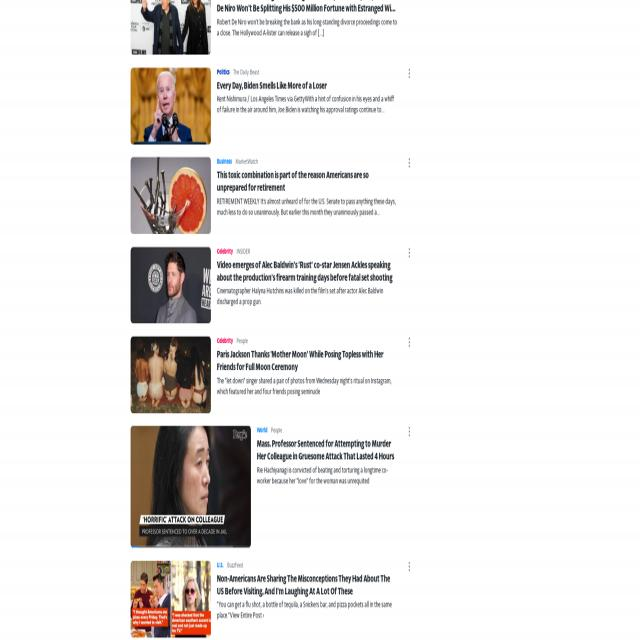button: (130, 426, 250, 548), (130, 561, 212, 640), (131, 68, 211, 144), (131, 158, 211, 234), (131, 337, 211, 413), (131, 0, 211, 55), (406, 157, 414, 175), (407, 243, 412, 261), (406, 560, 412, 572), (406, 337, 412, 348), (406, 426, 412, 437), (406, 68, 412, 78)
